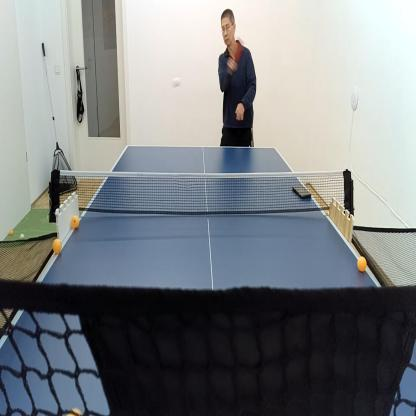Ball: (356, 254, 368, 274), (64, 404, 84, 416), (52, 236, 62, 255), (70, 213, 80, 230), (172, 77, 182, 91), (20, 232, 25, 241), (9, 227, 13, 236)
